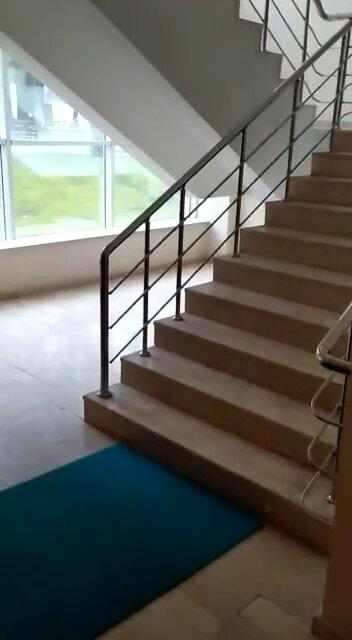Bench: (106, 160, 352, 416)
